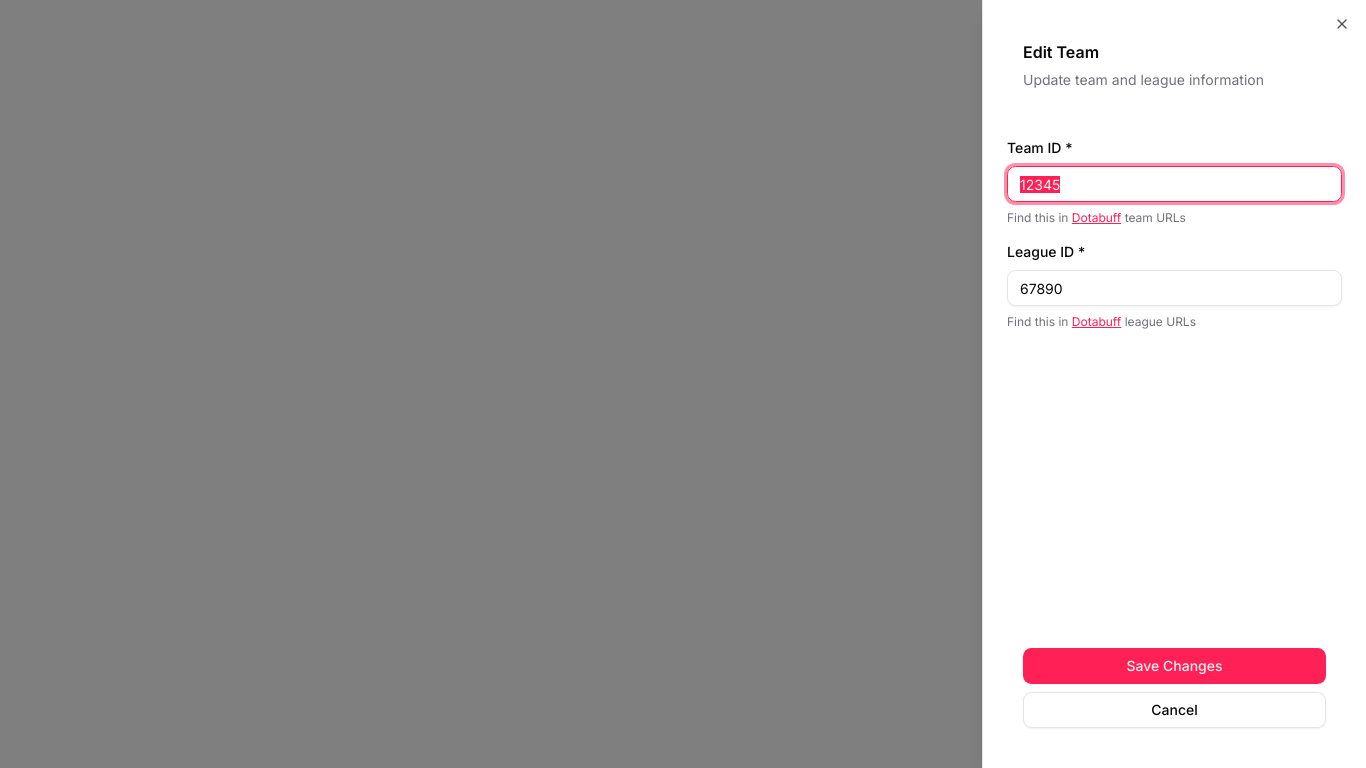
Test: EditTeamSheet › should show loading state when saving
The image size is (1366, 768).
Click the button "Save Changes". click: (1174, 666)
box: [1023,648,1326,684]
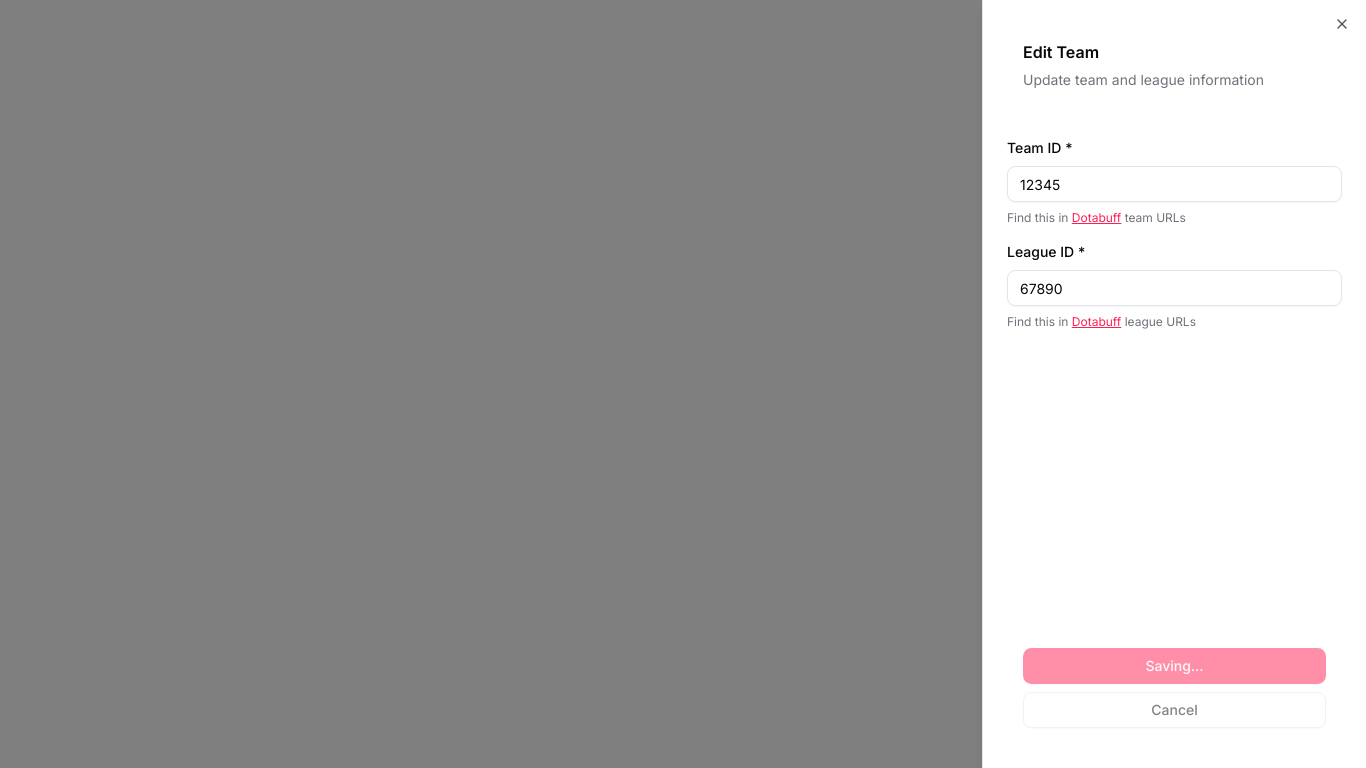
Check: the button "Saving..." is disabled, box [1023,648,1326,684]
